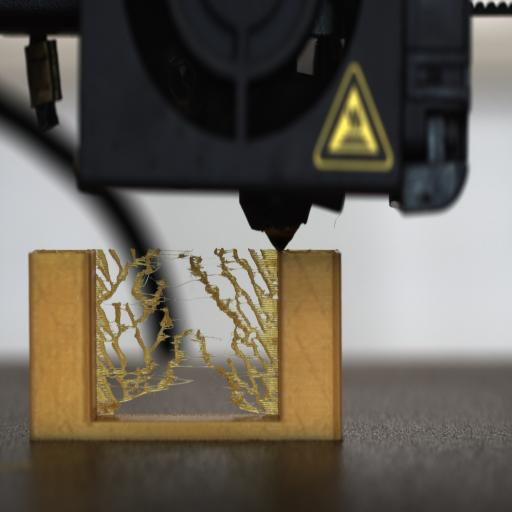stringing: (194, 324, 268, 411), (94, 249, 132, 413), (230, 248, 276, 358), (140, 325, 193, 400), (140, 256, 163, 286), (224, 330, 236, 362), (148, 387, 156, 402)
